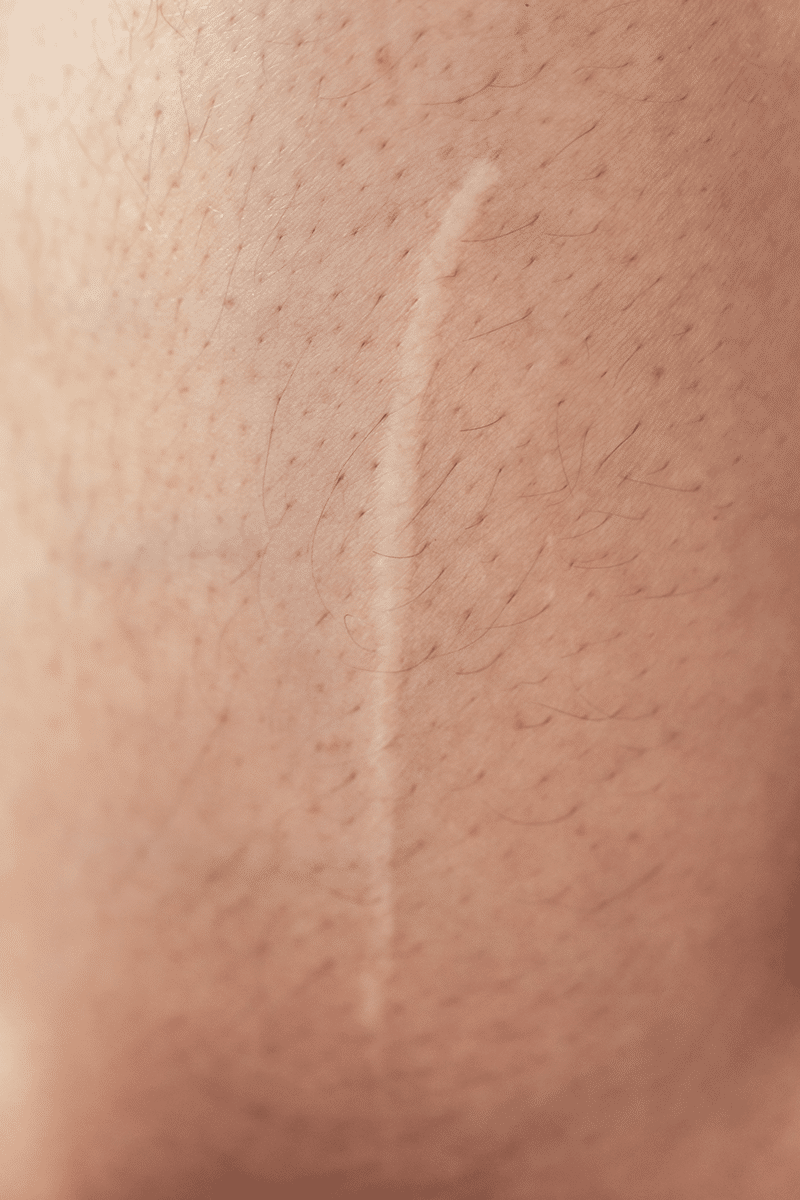scar: (313, 139, 510, 1097)
